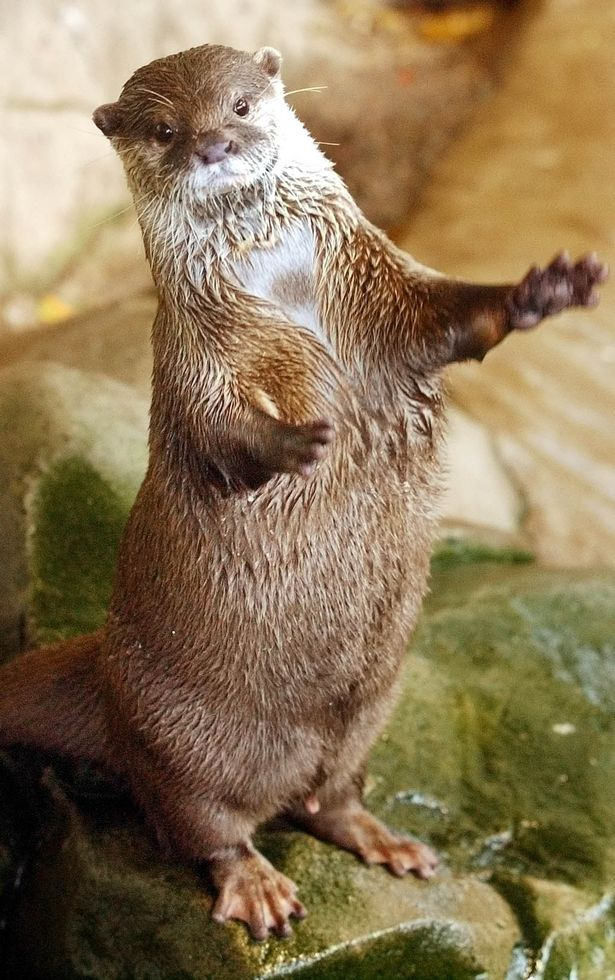otter: (65, 24, 579, 959)
